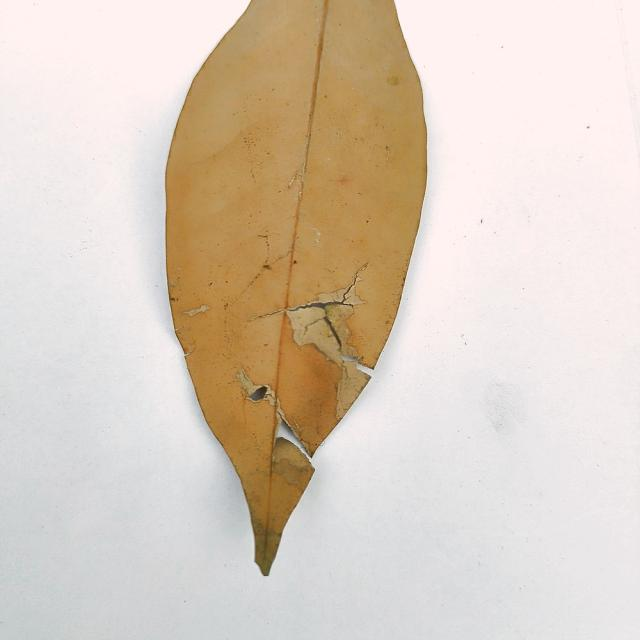Dry_Leaf-Lychee: (164, 0, 429, 579)
